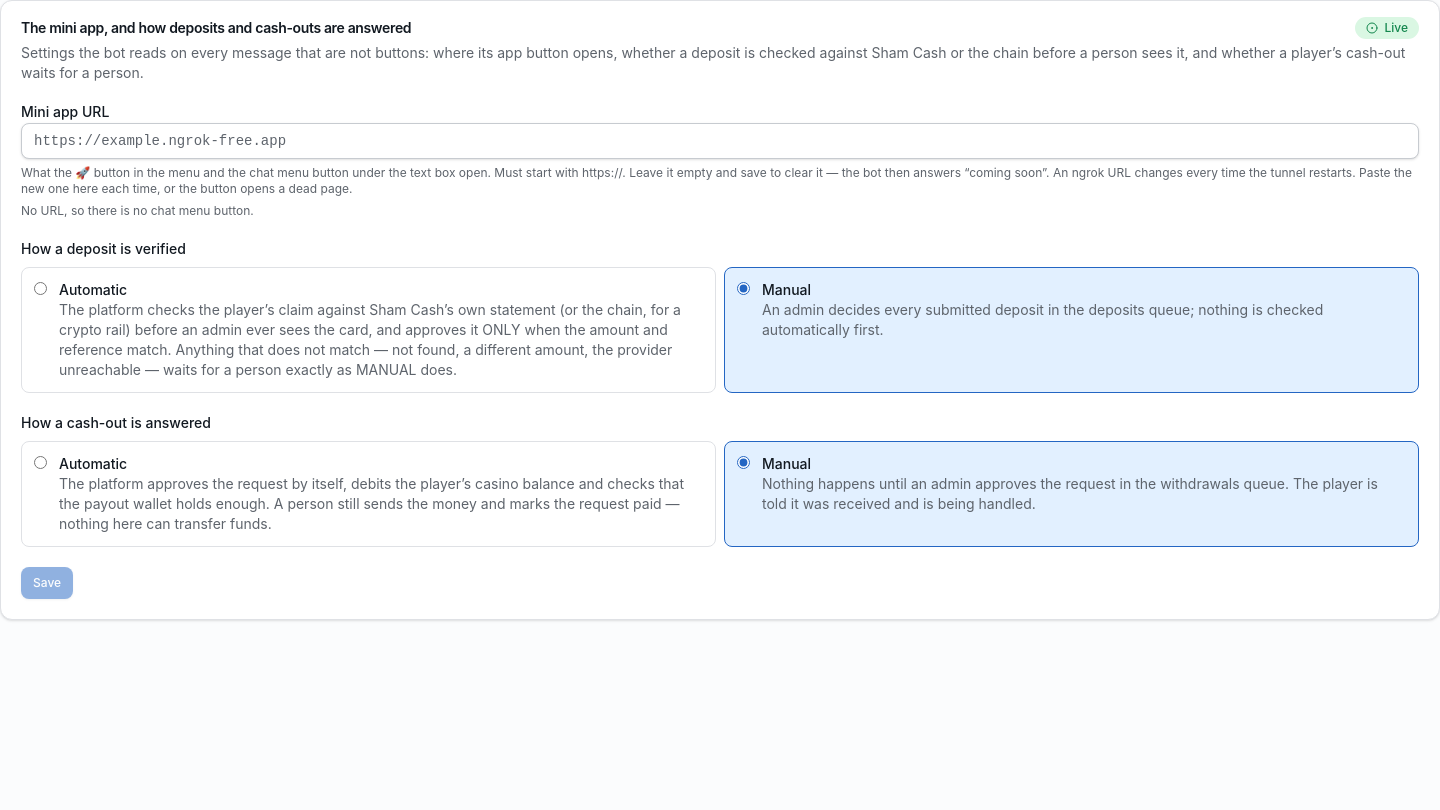
Test: editing › sends only the URL when only the URL changed, and re-seeds from the answer
Click the field labelled "Mini app URL" at (720,141), box top-left (21, 123), bottom-right (1419, 159)
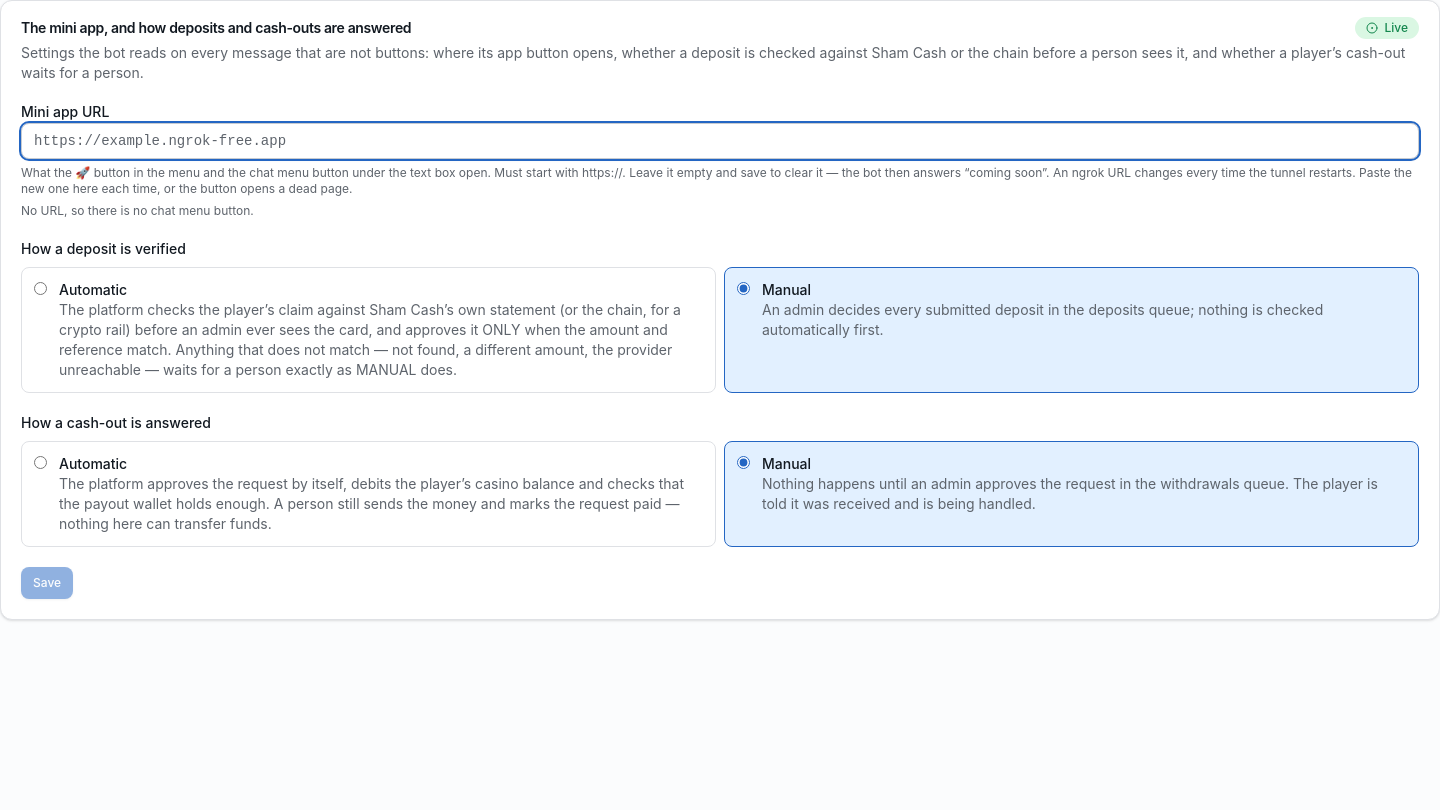
Type keys "https://abc123.ngrok-free.app"
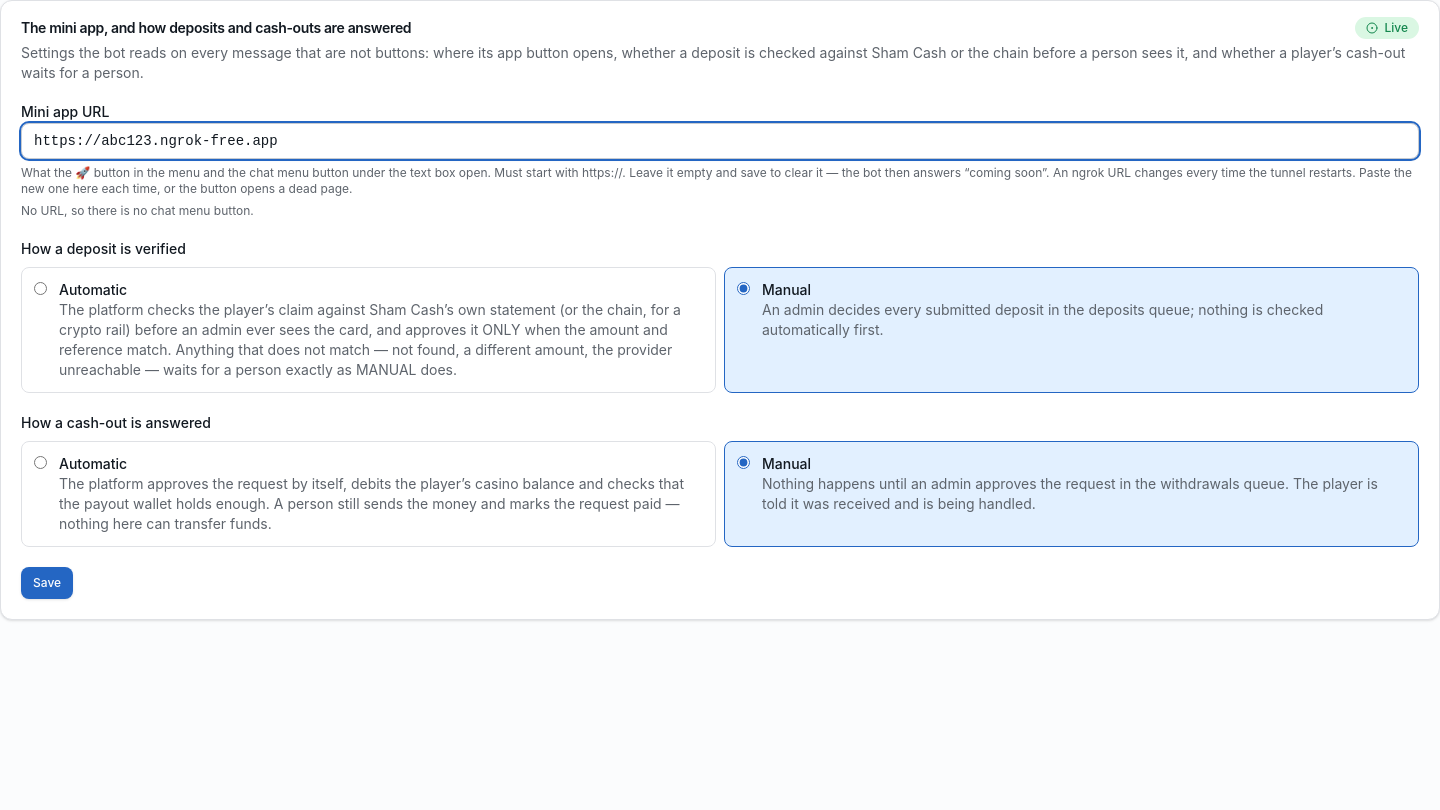
Click the button "Save" at (47,583), box top-left (21, 567), bottom-right (73, 599)
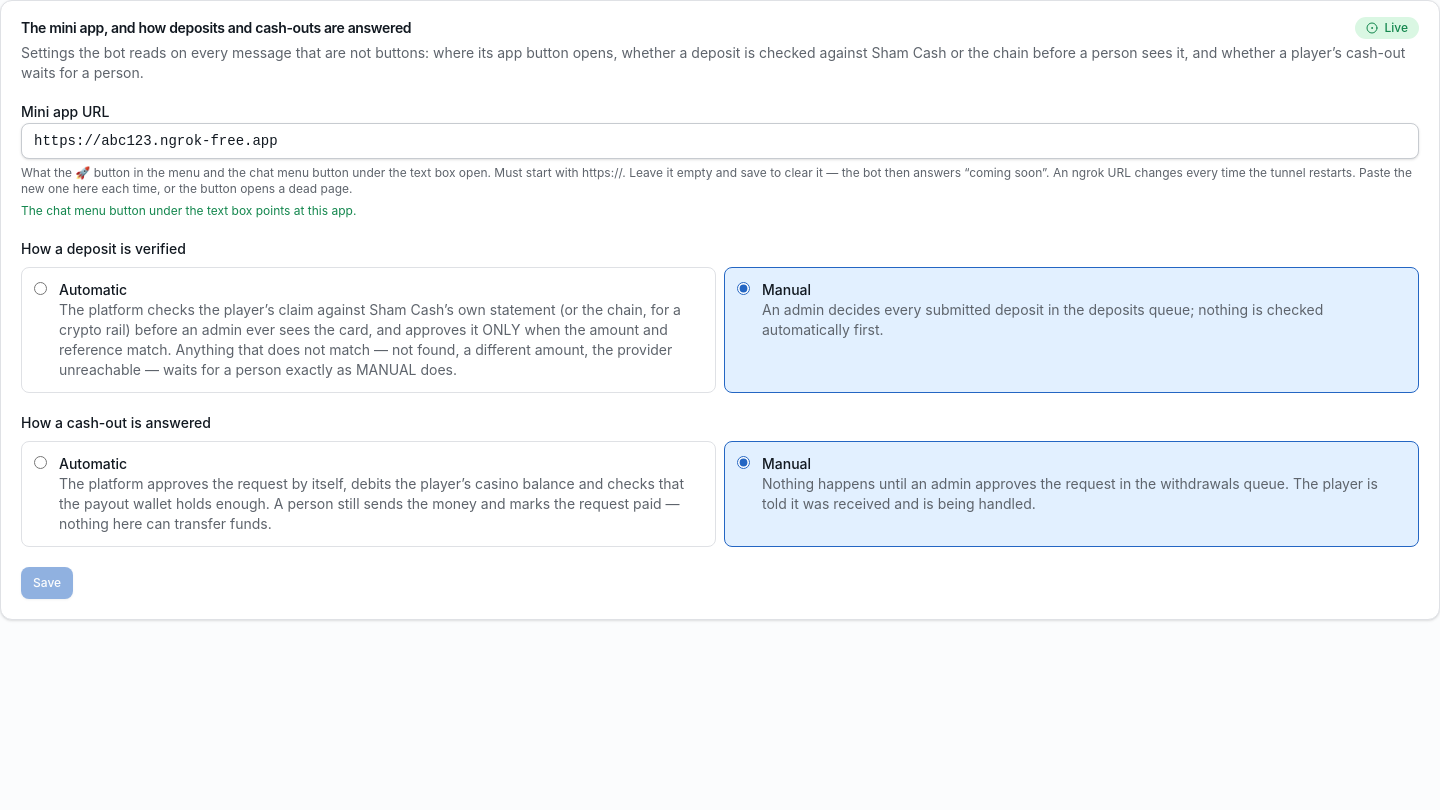
Now the text "The chat menu button under the text box points at this app." is shown, box top-left (21, 203), bottom-right (356, 218)
Now the button "Save" is disabled, box top-left (21, 567), bottom-right (73, 599)
